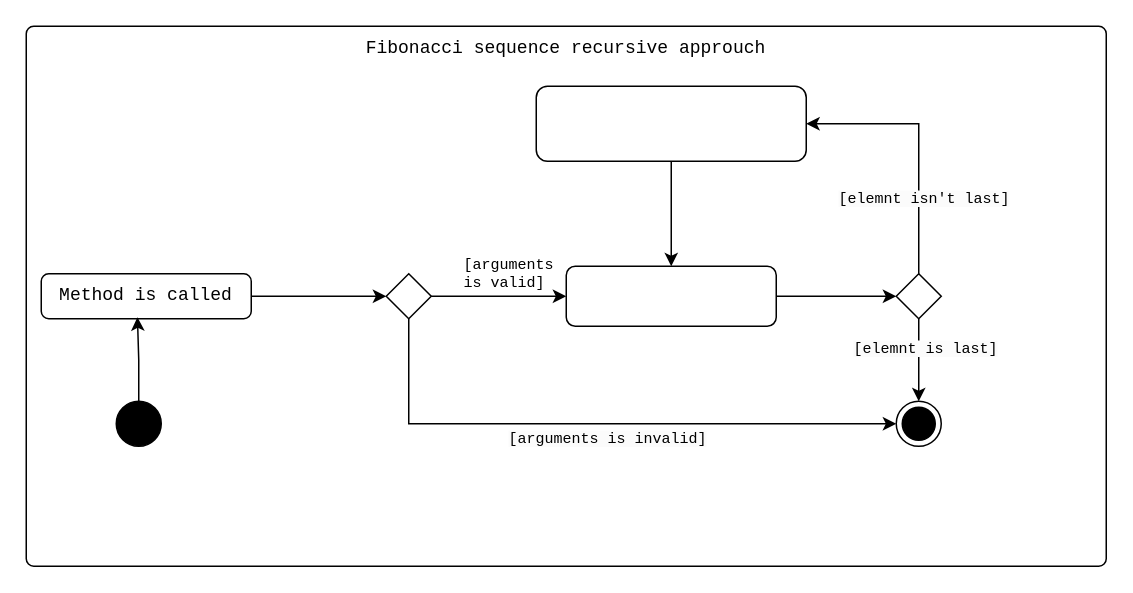
Some shapes in this 1133 by 593 pixel diagram are drawn without their labels. Each missing label, with the centre of its shape:
Calculate next elemnt and print: the point at 670,295
Decrement n and call itself with new values: the point at 670,123
